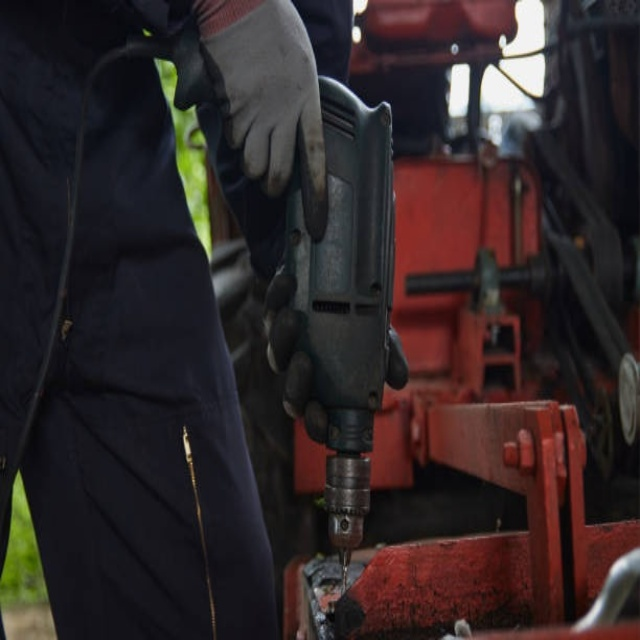Guantes: (178, 0, 327, 231), (262, 251, 412, 442)
